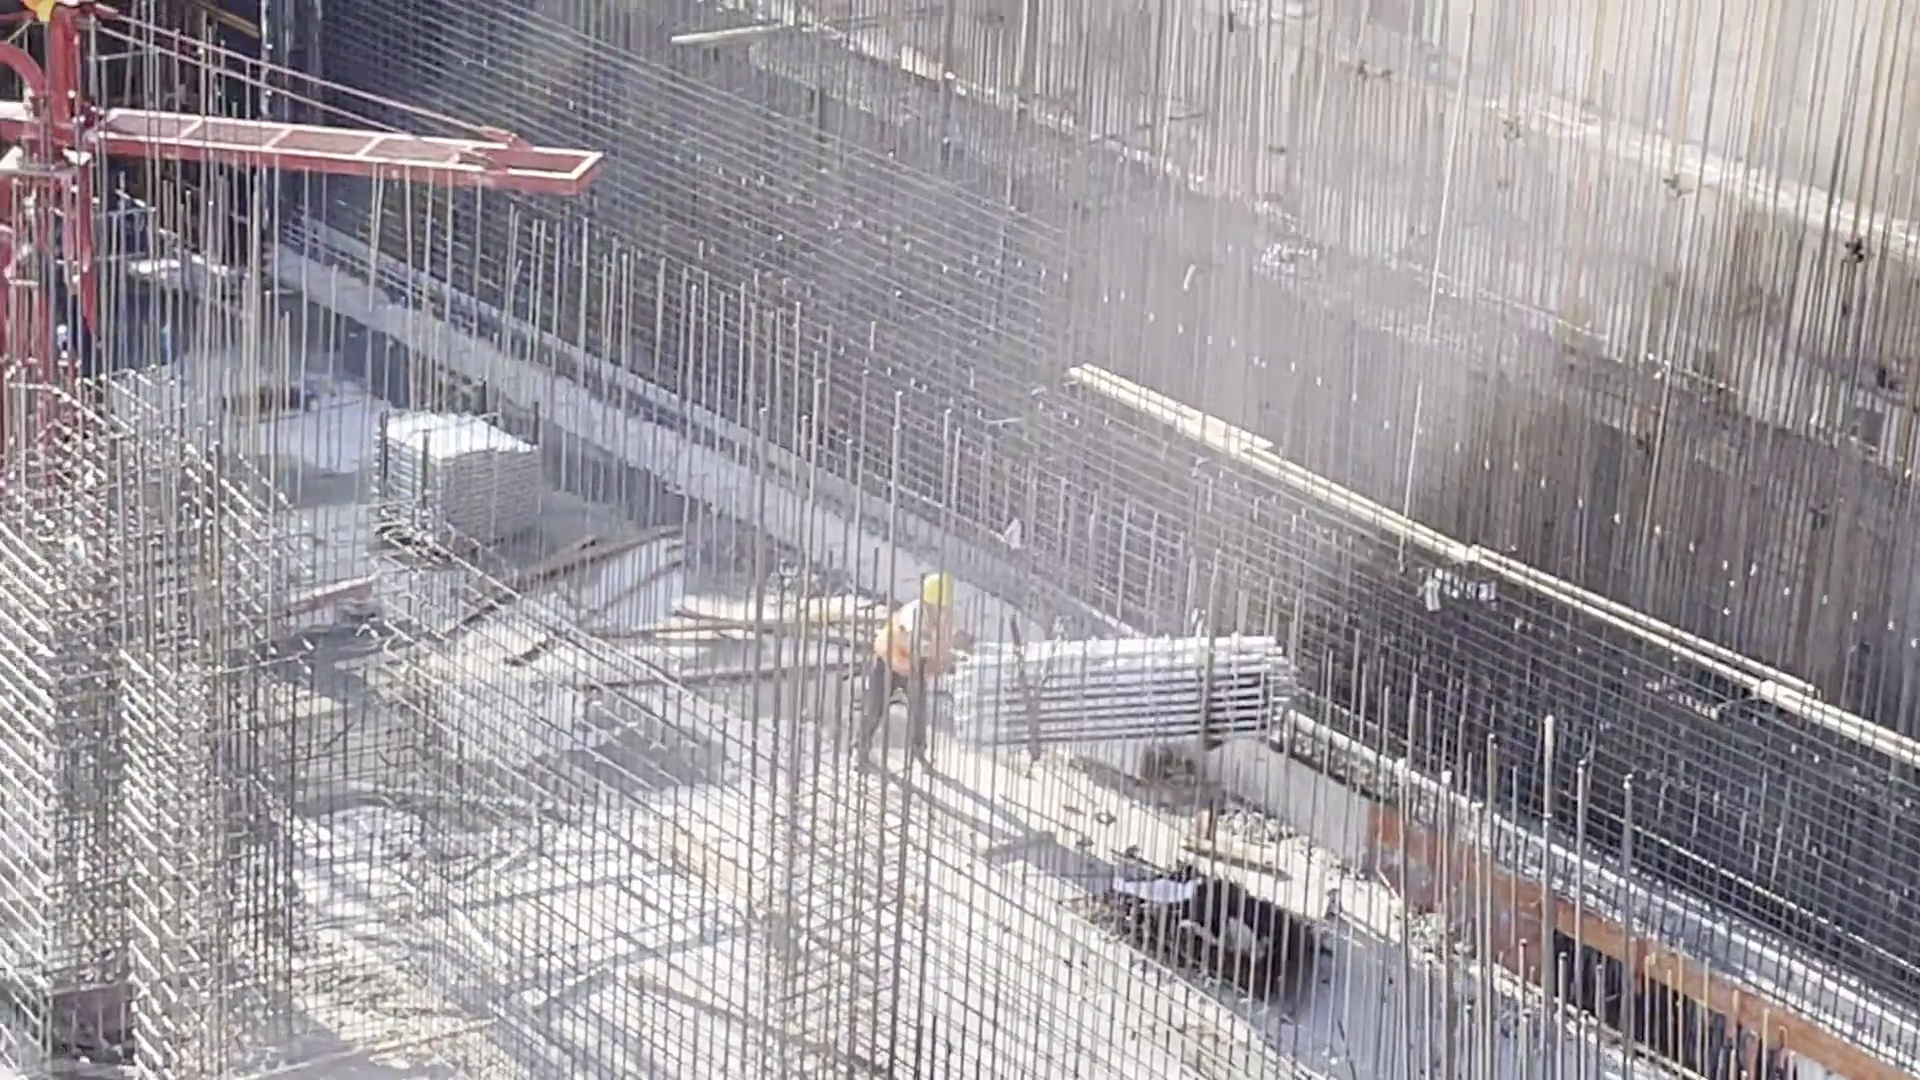helmet: (918, 571, 952, 612)
person: (862, 565, 955, 768)
scaffold: (954, 628, 1301, 751), (383, 413, 567, 566)
vest: (879, 606, 943, 689)
